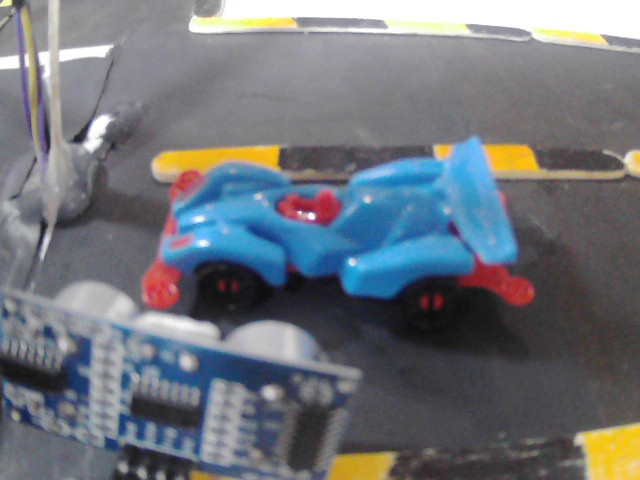car: (145, 172, 548, 335)
uno_breadboard: (4, 278, 339, 480)
